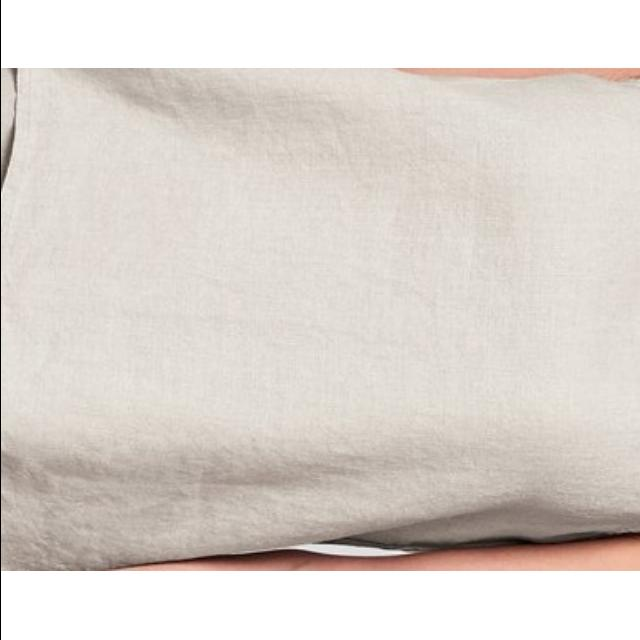linen: (0, 69, 640, 572)
